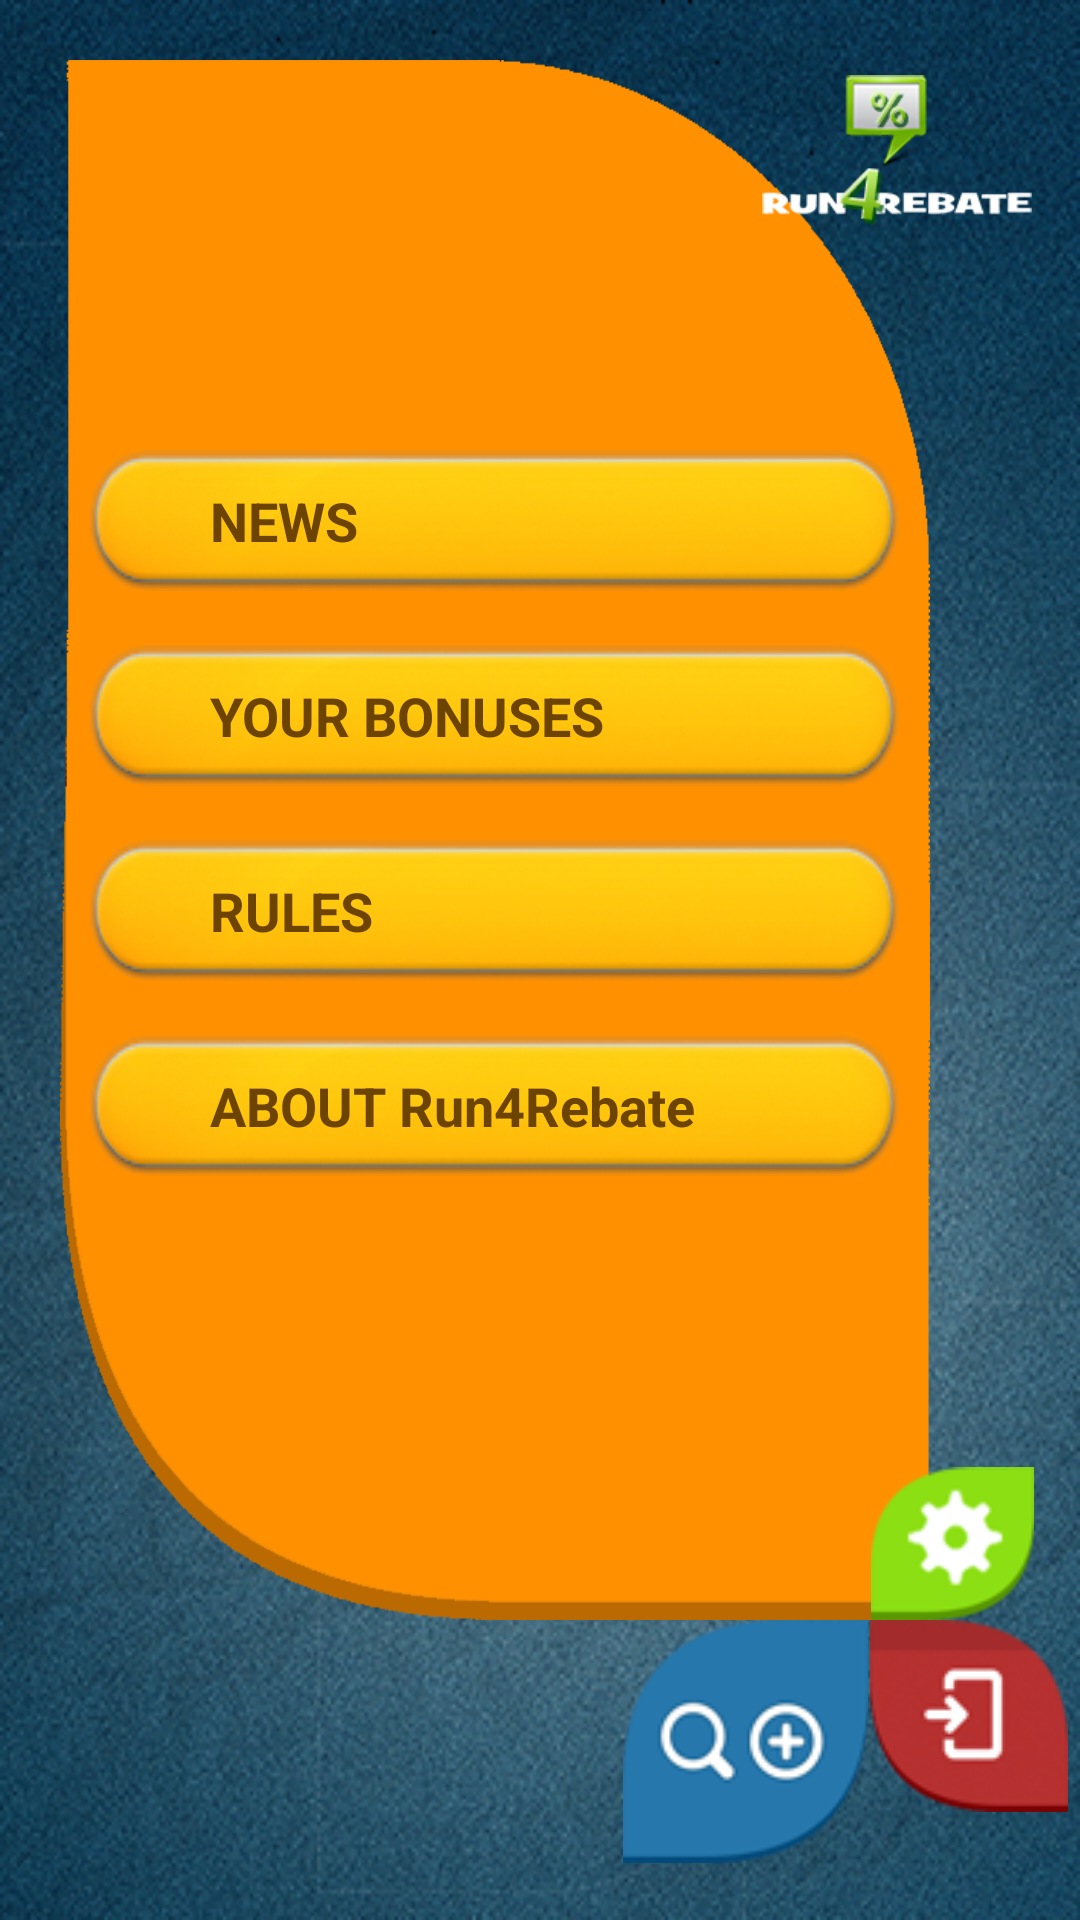

Icon click points for this 1080*1920 phone screenshot, format (x=x, y=y):
add search: (x=745, y=1741)
settings: (x=952, y=1543)
